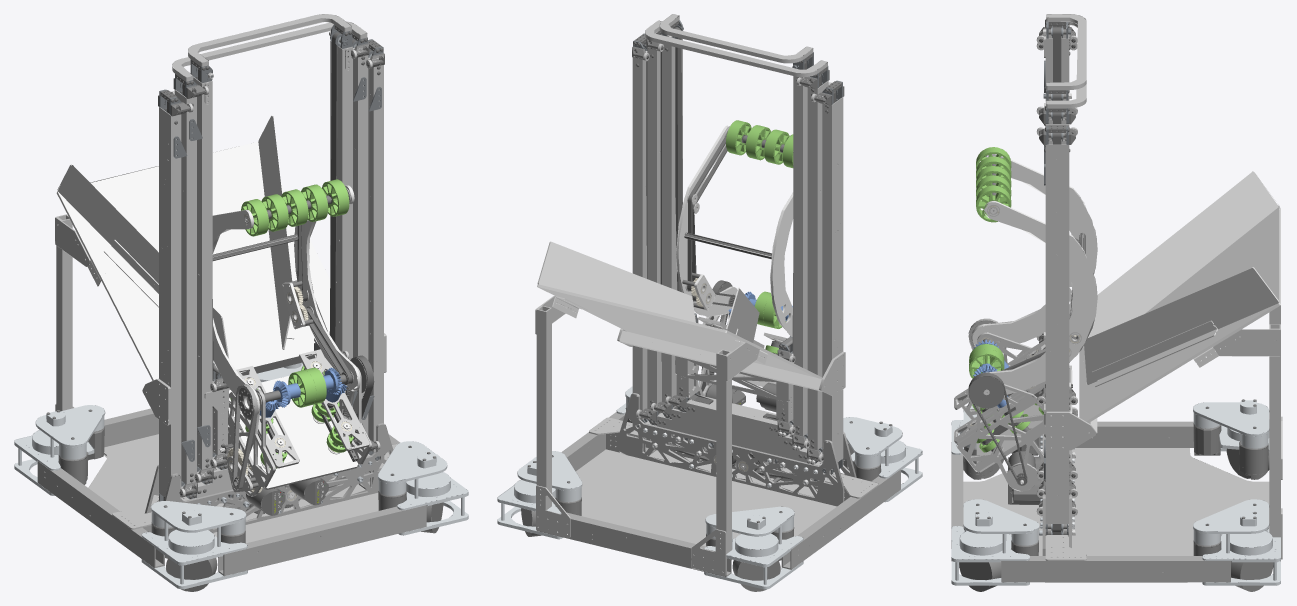
File: toyota-web.glb
3 renders of one model, left to right at view 1: azimuth 30°, elevation 25°; view 2: azimuth 150°, elevation 25°; view 3: azimuth 270°, elevation 25°, orthographic. The views are drawn at different scales.
Parts seen in each view (by area): view 1: Part 3, Part 7, Simplified MK4i, Tube 2"x2"x4", 3" Compliant Wheel (35A, 1" Wide, 1/2" Hex Bore), 50T 5M 9mm Wide Belt, Spacer (Configurable), Hardstop, 1" x 1" x 0.090" Aluminum Angle (13" L, 0.5" Pitch Hole Patt, 15t Aluminum Pulley (HTD 5mm, 9mm Wide, 1/2" Hex Bore), 1/2" Rounded Hex (13.75mm) ID Bearing (1.125" OD, 0.313" WD,, Bevel 2.5400000000000005M 22T 45deg; view 2: Part 3, Part 7, Tube 2"x2"x4", Simplified MK4i, 50T 5M 9mm Wide Belt, Spacer (Configurable), 1" x 1" x 0.090" Aluminum Angle (13" L, 0.5" Pitch Hole Patt, 3" Compliant Wheel (35A, 1" Wide, 1/2" Hex Bore), 15t Aluminum Pulley (HTD 5mm, 9mm Wide, 1/2" Hex Bore), Hardstop, 1/2" Rounded Hex (13.75mm) ID Bearing (1.125" OD, 0.313" WD,; view 3: Part 3, Part 7, Simplified MK4i, Tube 2"x2"x4", 3" Compliant Wheel (35A, 1" Wide, 1/2" Hex Bore), 1" x 1" x 0.090" Aluminum Angle (13" L, 0.5" Pitch Hole Patt, Spacer (Configurable), 50T 5M 9mm Wide Belt, 1/2" Rounded Hex (13.75mm) ID Bearing (1.125" OD, 0.313" WD,, Hardstop, 15t Aluminum Pulley (HTD 5mm, 9mm Wide, 1/2" Hex Bore).
Boxes of the visible parts, x1=… form: Part 3: x1=55, y1=14, x2=399, y2=543; Part 7: x1=56, y1=115, x2=360, y2=489; Simplified MK4i: x1=14, y1=357, x2=468, y2=591; Tube 2"x2"x4": x1=37, y1=384, x2=426, y2=576; 3" Compliant Wheel (35A, 1" Wide, 1/2" Hex Bore): x1=230, y1=179, x2=353, y2=468; 50T 5M 9mm Wide Belt: x1=163, y1=32, x2=373, y2=510; Spacer (Configurable): x1=158, y1=25, x2=384, y2=515; Hardstop: x1=159, y1=24, x2=383, y2=501; 1" x 1" x 0.090" Aluminum Angle (13" L, 0.5" Pitch Hole Patt: x1=82, y1=199, x2=349, y2=498; 15t Aluminum Pulley (HTD 5mm, 9mm Wide, 1/2" Hex Bore): x1=164, y1=31, x2=383, y2=513; 1/2" Rounded Hex (13.75mm) ID Bearing (1.125" OD, 0.313" WD,: x1=171, y1=48, x2=380, y2=501; Bevel 2.5400000000000005M 22T 45deg: x1=259, y1=367, x2=347, y2=417; Part 3: x1=535, y1=14, x2=878, y2=576; Part 7: x1=537, y1=125, x2=822, y2=386; Tube 2"x2"x4": x1=536, y1=393, x2=900, y2=576; Simplified MK4i: x1=497, y1=282, x2=922, y2=591; 50T 5M 9mm Wide Belt: x1=644, y1=27, x2=838, y2=480; Spacer (Configurable): x1=632, y1=20, x2=844, y2=482; 1" x 1" x 0.090" Aluminum Angle (13" L, 0.5" Pitch Hole Patt: x1=552, y1=138, x2=821, y2=469; 3" Compliant Wheel (35A, 1" Wide, 1/2" Hex Bore): x1=726, y1=120, x2=793, y2=353; 15t Aluminum Pulley (HTD 5mm, 9mm Wide, 1/2" Hex Bore): x1=633, y1=40, x2=837, y2=471; Hardstop: x1=633, y1=20, x2=843, y2=480; 1/2" Rounded Hex (13.75mm) ID Bearing (1.125" OD, 0.313" WD,: x1=636, y1=43, x2=831, y2=472; Part 3: x1=954, y1=14, x2=1282, y2=582; Part 7: x1=972, y1=154, x2=1280, y2=472; Simplified MK4i: x1=951, y1=372, x2=1280, y2=591; Tube 2"x2"x4": x1=951, y1=318, x2=1280, y2=582; 3" Compliant Wheel (35A, 1" Wide, 1/2" Hex Bore): x1=969, y1=147, x2=1043, y2=452; 1" x 1" x 0.090" Aluminum Angle (13" L, 0.5" Pitch Hole Patt: x1=972, y1=208, x2=1242, y2=433; Spacer (Configurable): x1=962, y1=21, x2=1075, y2=535; 50T 5M 9mm Wide Belt: x1=968, y1=27, x2=1080, y2=534; 1/2" Rounded Hex (13.75mm) ID Bearing (1.125" OD, 0.313" WD,: x1=969, y1=35, x2=1081, y2=515; Hardstop: x1=1043, y1=21, x2=1070, y2=534; 15t Aluminum Pulley (HTD 5mm, 9mm Wide, 1/2" Hex Bore): x1=972, y1=19, x2=1085, y2=502.
Size of the model in its own units: 0.7112 by 1.17 by 0.7144.
